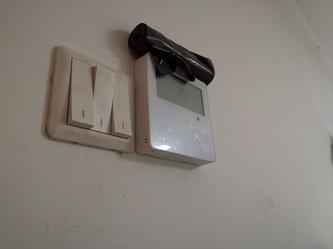switch: (65, 52, 95, 130), (91, 61, 115, 139), (111, 71, 135, 139)
